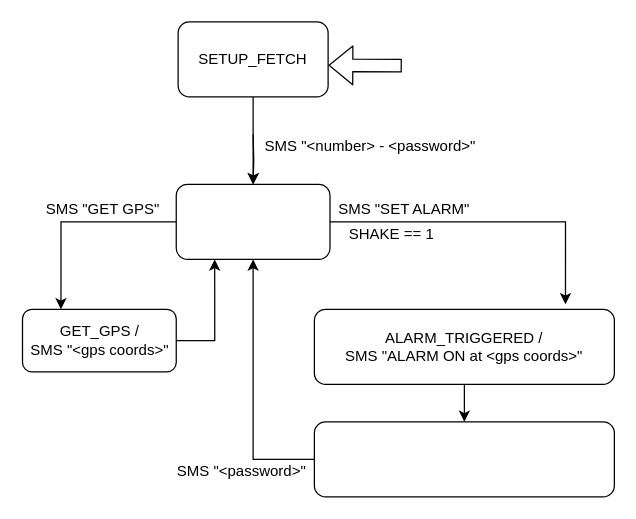
Some shapes in this 636 by 519 pixel diagram are drawn without their labels. Here are the shapes that lost their labels. From the top down, the centre of each, then its label:
[252,221]: SIGNAL_FETCH SMS "<menu>"
[463,459]: ALARM_ON / RELAY = 1
